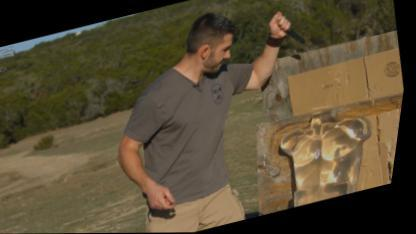knife: (262, 2, 315, 56)
